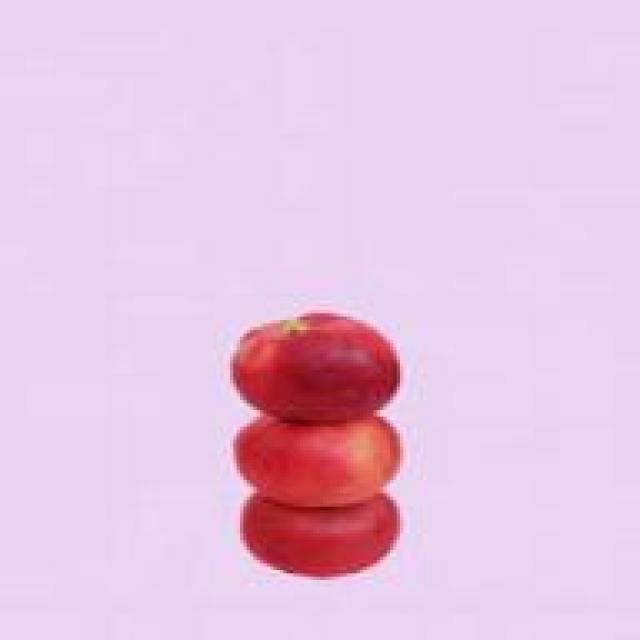apple: (220, 313, 423, 420), (207, 410, 423, 510), (216, 490, 426, 590)
